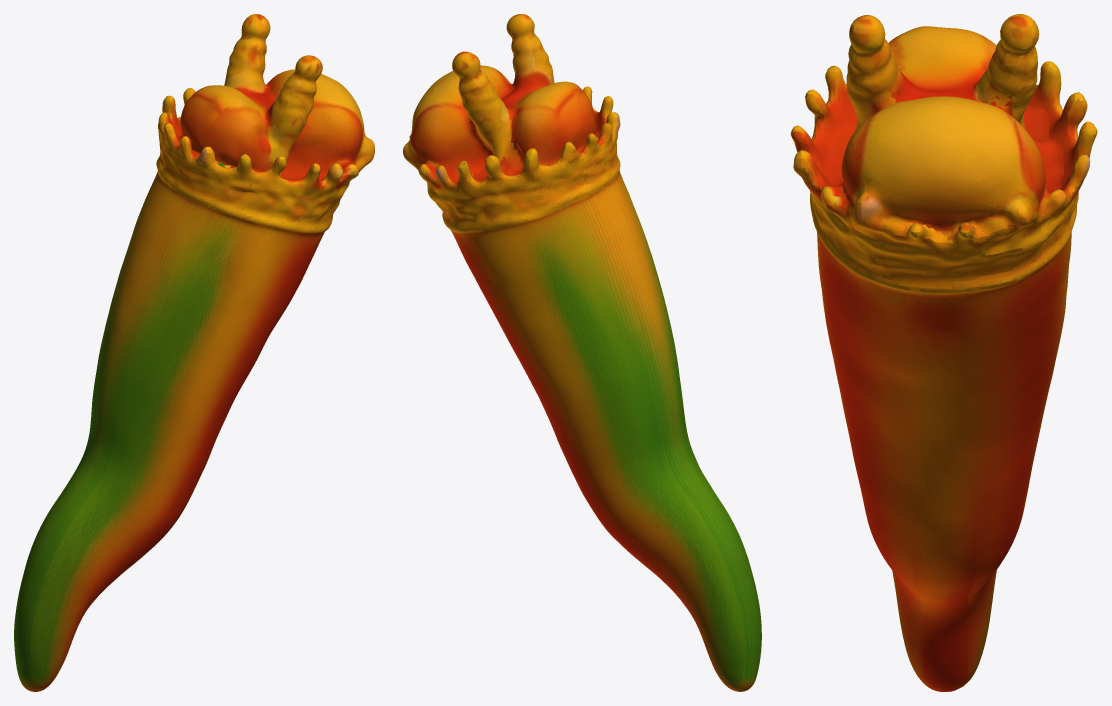
The model's file is reliquia.glb.
The picture shows the model from 3 angles, left to right: view 1: azimuth 30°, elevation 25°; view 2: azimuth 150°, elevation 25°; view 3: azimuth 270°, elevation 25°; orthographic projection. The views are drawn at different scales.
Visible parts, largest first — view 1: tmpt2ewxg2y.ply; view 2: tmpt2ewxg2y.ply; view 3: tmpt2ewxg2y.ply.
Part boxes in pixels (<box>): tmpt2ewxg2y.ply: <box>14,14,374,691</box>; tmpt2ewxg2y.ply: <box>403,14,761,691</box>; tmpt2ewxg2y.ply: <box>790,14,1097,691</box>.
Size of the model in its own units: 1.17 by 1.96 by 0.6439.
1 material, 1 textured.
